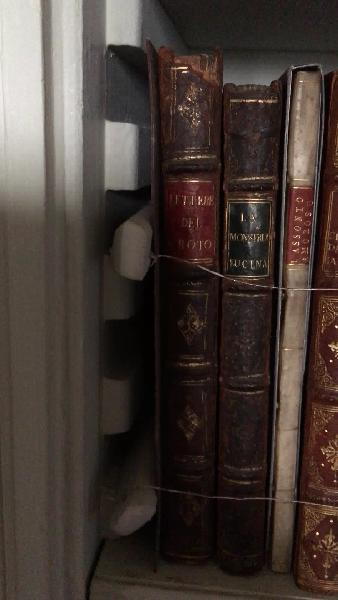Aa6-1: (146, 32, 221, 573)
Aa6-2: (216, 72, 285, 581)
Aa6-3: (270, 44, 314, 590)
